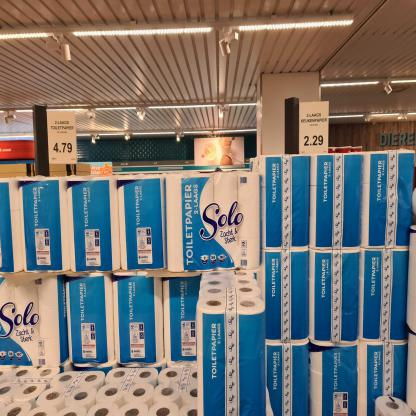prtg: (48, 111, 79, 165), (300, 102, 330, 155)
